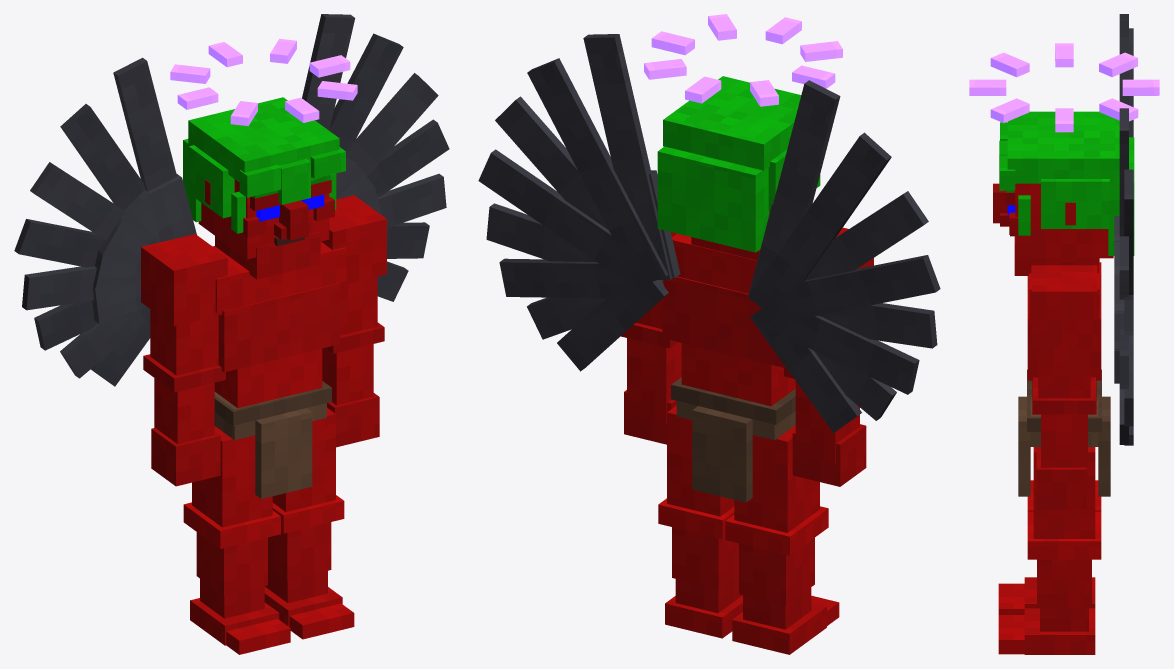
Rendered from angel_s2.glb.
3 renders of one model, left to right at view 1: azimuth 30°, elevation 25°; view 2: azimuth 150°, elevation 25°; view 3: azimuth 270°, elevation 25°, orthographic. The views are drawn at different scales.
Parts seen in each view (by area): view 1: Torso, Head, ArmR, LegR, LegL, ArmL; view 2: Torso, Head, LegR, LegL, ArmL, ArmR; view 3: Head, ArmL, LegL, Torso, LegR.
Boxes of the visible parts, box(x1,y1,x2,y2) form: Torso: box(14, 14, 449, 498); Head: box(170, 38, 357, 279); ArmR: box(141, 234, 227, 486); LegR: box(183, 426, 290, 654); LegL: box(264, 407, 354, 639); ArmL: box(321, 195, 386, 447); Torso: box(478, 34, 940, 502); Head: box(644, 14, 842, 260); LegR: box(725, 425, 839, 654); LegL: box(658, 405, 742, 638); ArmL: box(620, 232, 681, 444); ArmR: box(784, 227, 873, 486); Head: box(969, 43, 1159, 275); ArmL: box(1031, 265, 1097, 509); LegL: box(998, 447, 1101, 654); Torso: box(1018, 14, 1133, 496); LegR: box(998, 480, 1101, 614).
Size of the model in its own units: 1.63 by 2.02 by 0.6201.
Materials: 23 (23 with a texture image).
